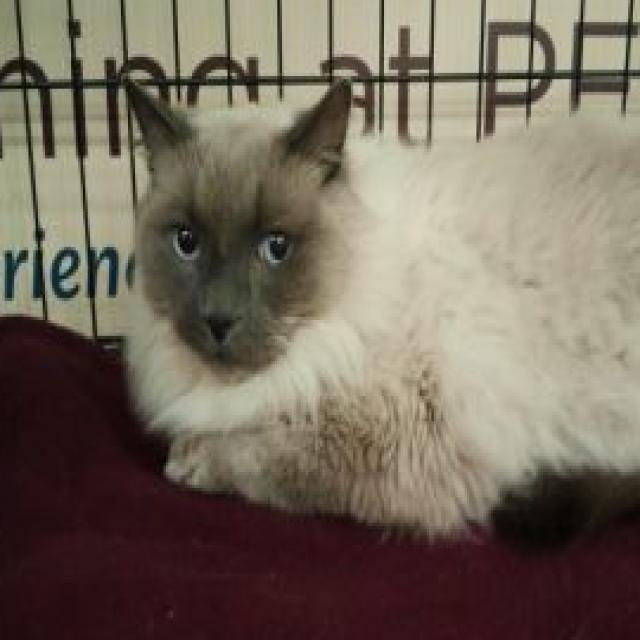Ragdoll: (114, 66, 640, 552)
